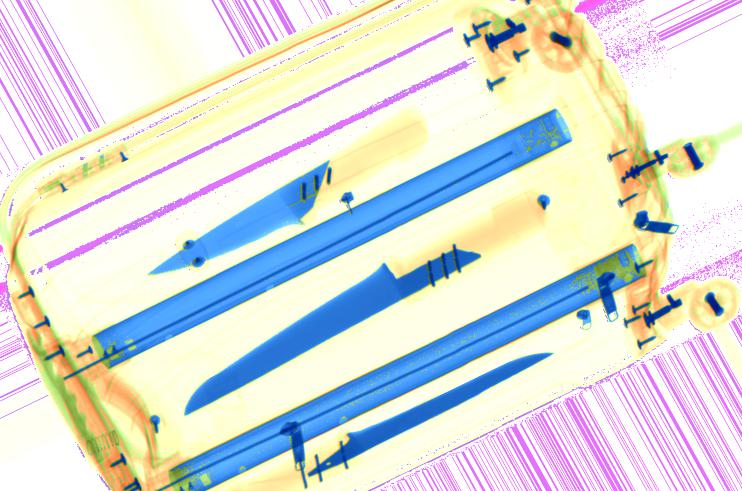Knife: (177, 234, 490, 415), (288, 351, 554, 491), (146, 155, 342, 278)
